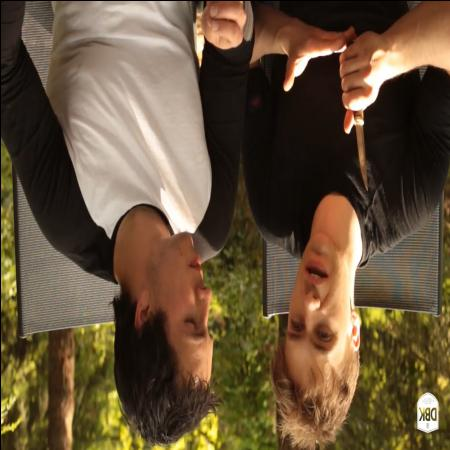long weapon: (338, 70, 372, 199)
